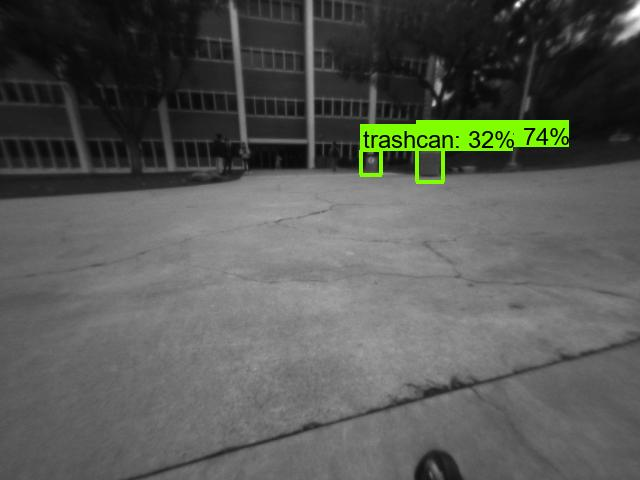trashcan: (420, 146, 441, 176), (364, 153, 382, 176)
